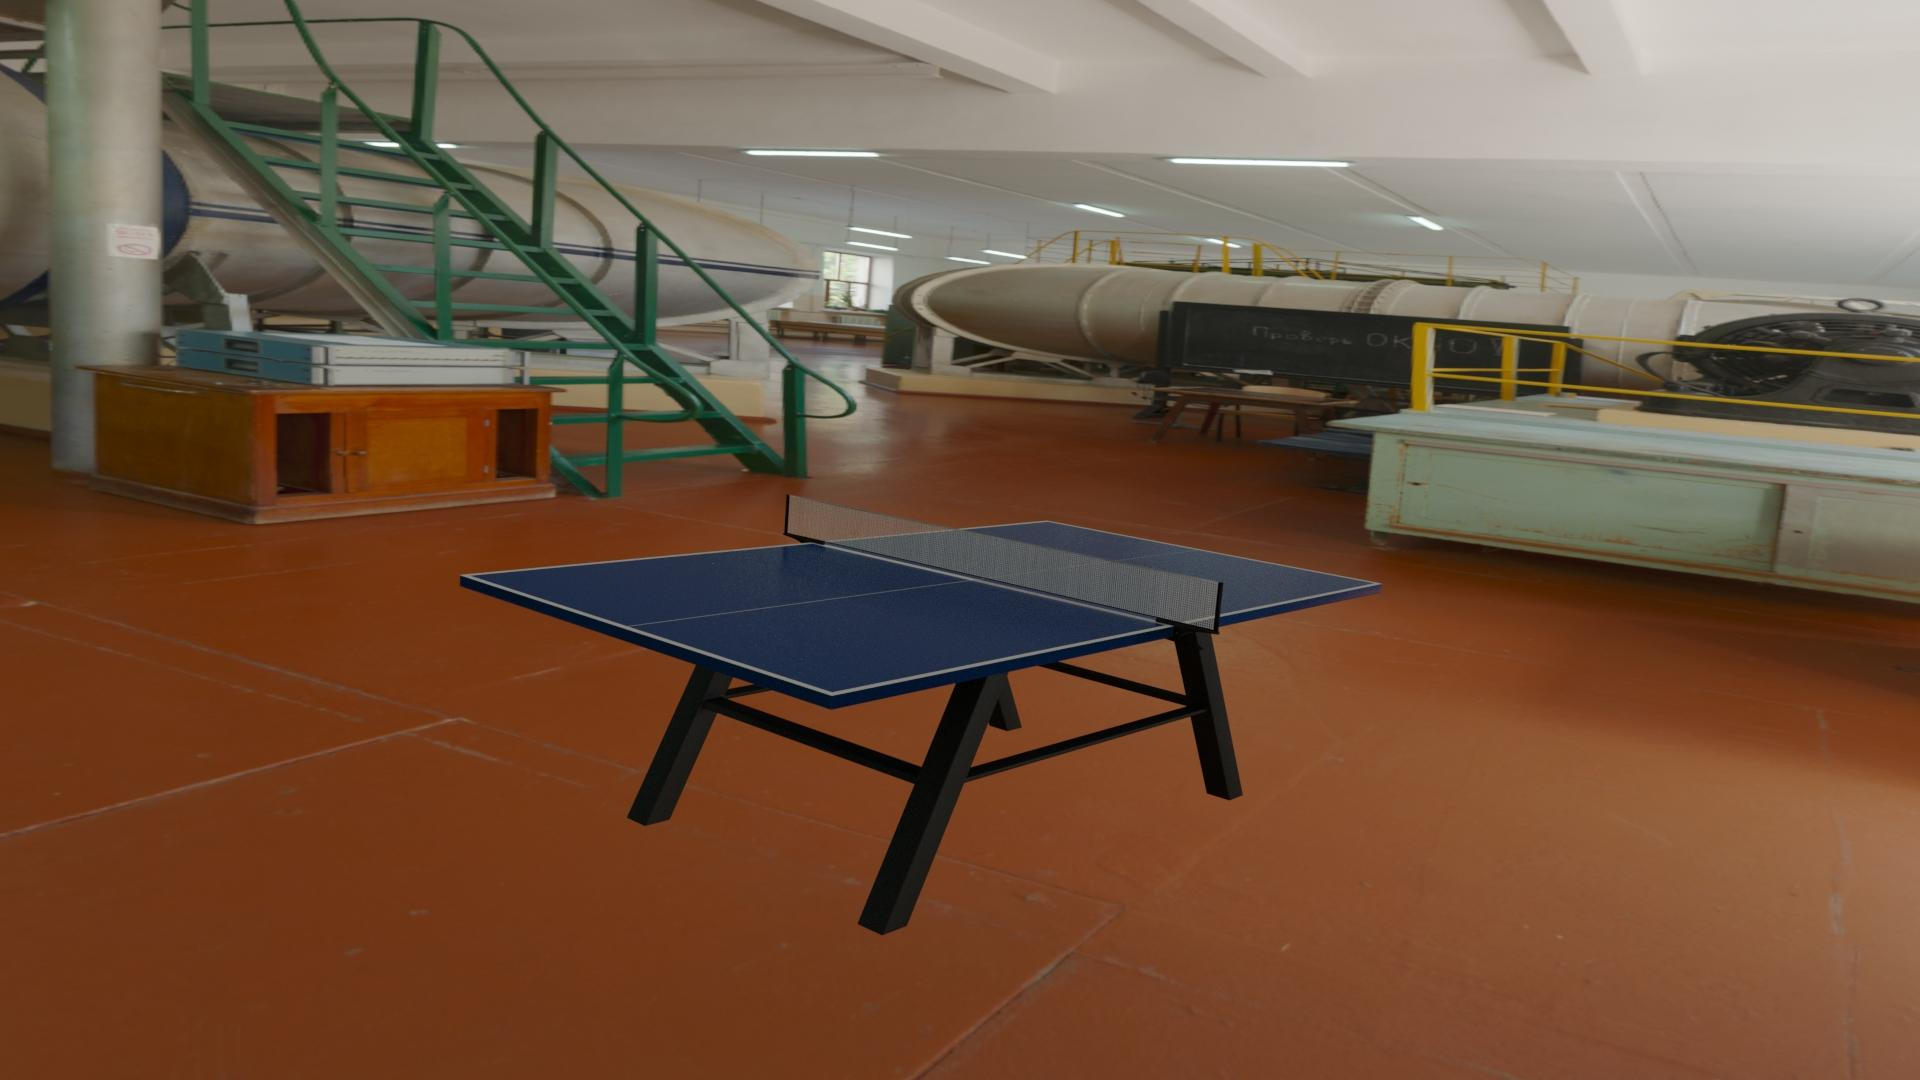table: (469, 522, 1375, 692)
